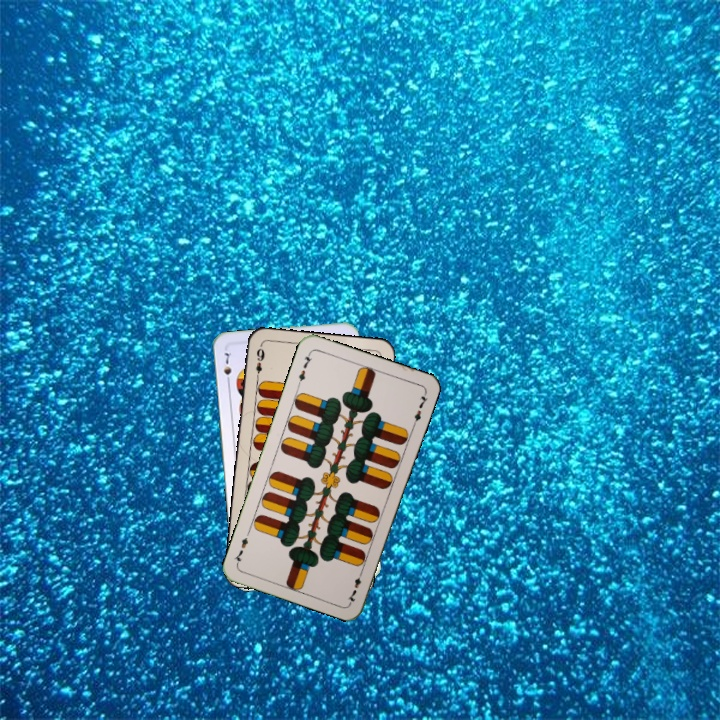E7: (344, 566, 366, 605), (294, 349, 315, 388)
E9: (251, 344, 267, 383)
S7: (219, 348, 234, 387)
